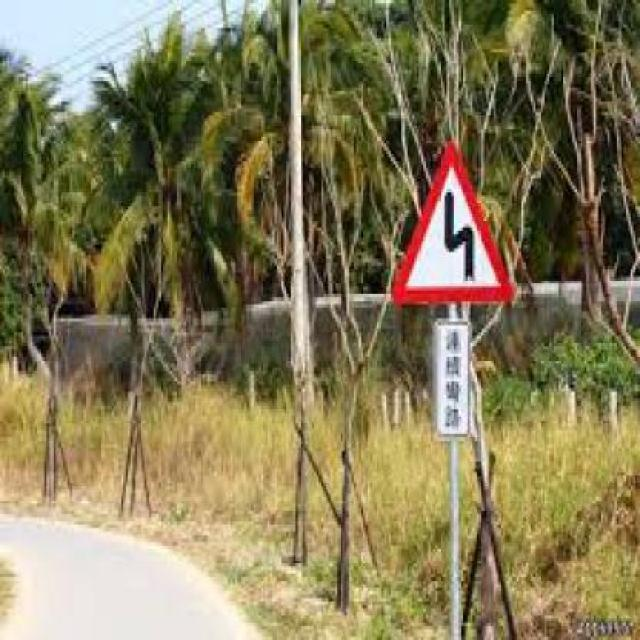warn_double_curve: (398, 140, 520, 308)
